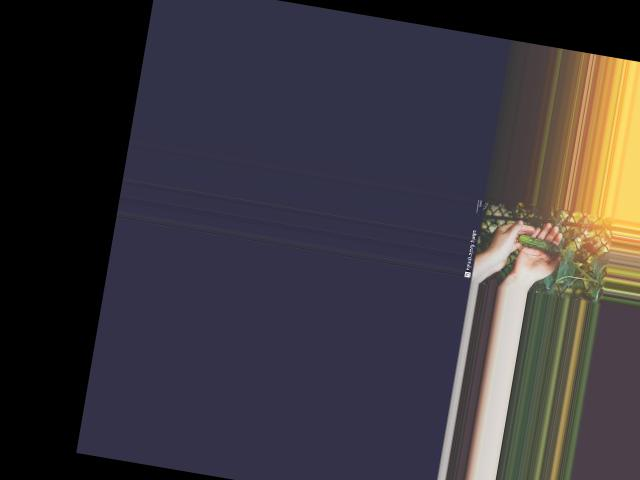cucumber: (516, 233, 561, 256)
